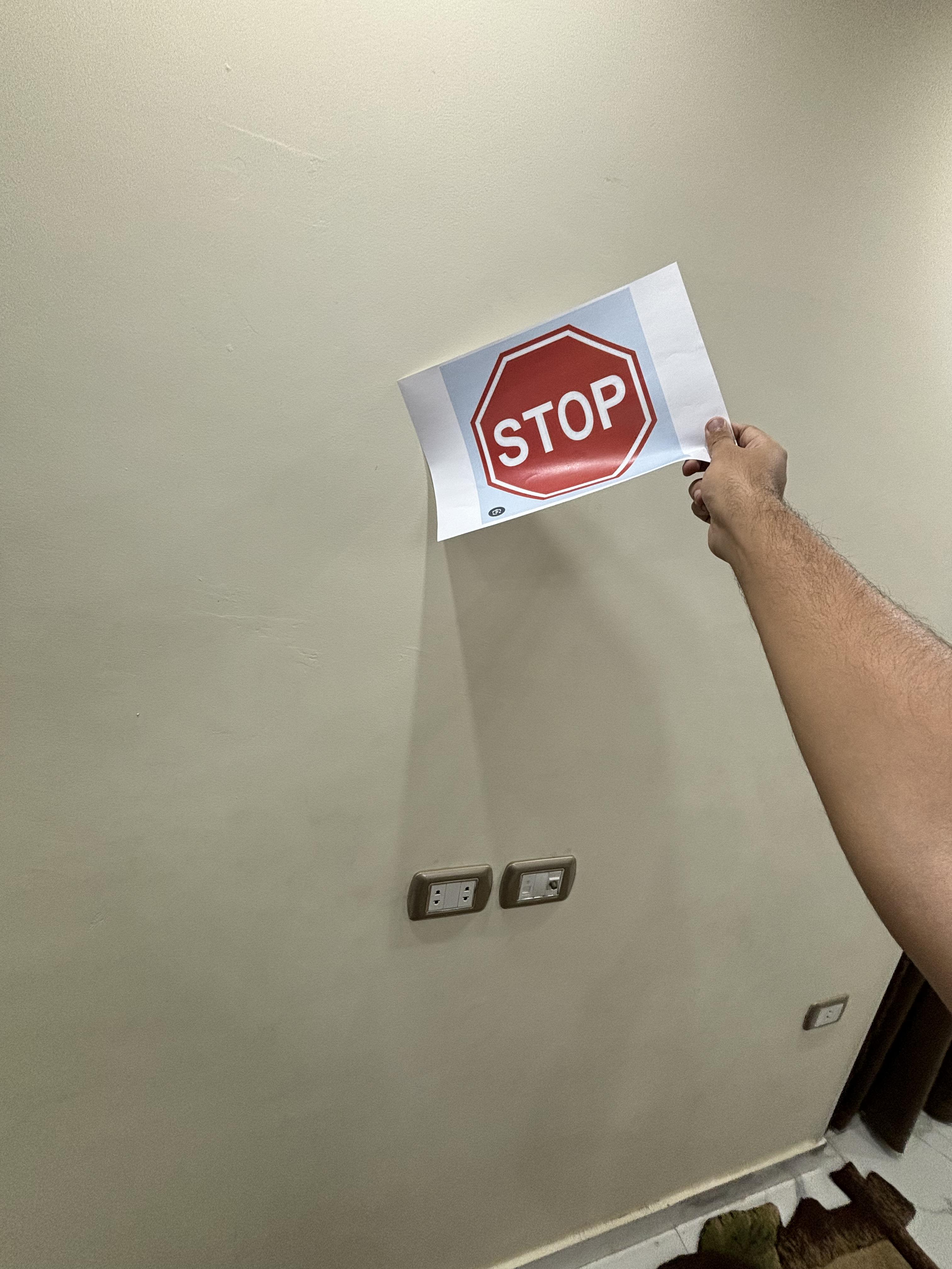Stop: (462, 315, 668, 513)
